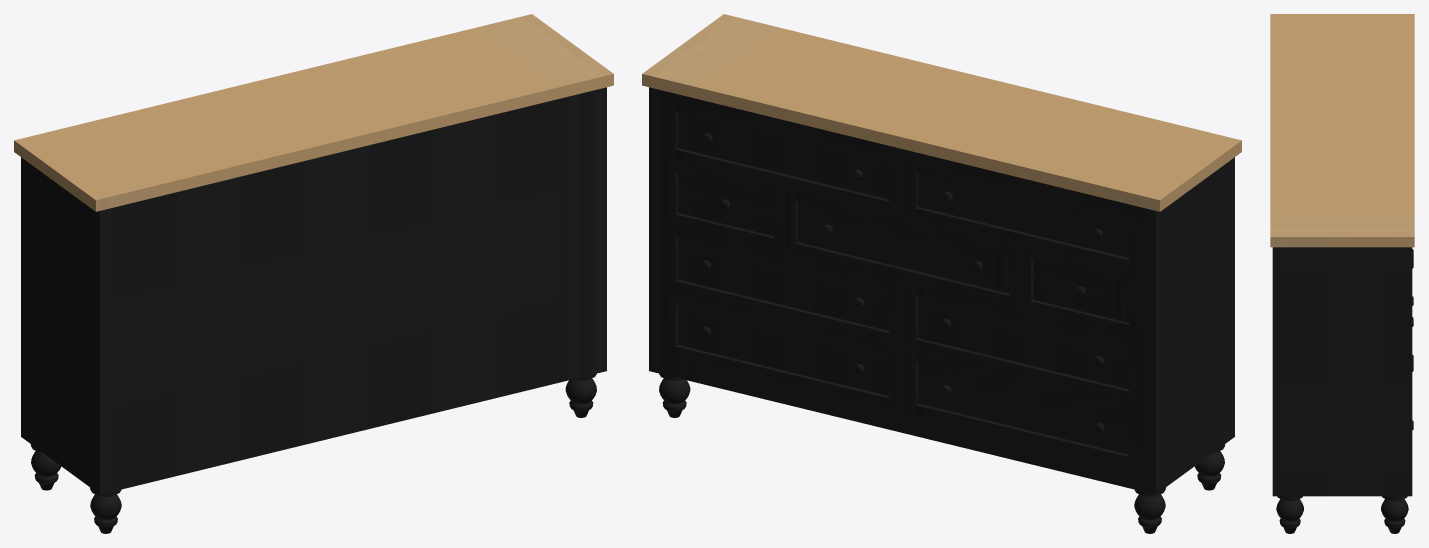
The model's file is Drawer31.glb.
3 renders of one model, left to right at view 1: azimuth 30°, elevation 25°; view 2: azimuth 150°, elevation 25°; view 3: azimuth 270°, elevation 25°, orthographic. The views are drawn at different scales.
Parts seen in each view (by area): view 1: Drawer31_Body; view 2: Drawer31_Body, Drawer31_6, Drawer31_7, Drawer31_9, Drawer31_8, Drawer31_4, Drawer31_1, Drawer31_2, Drawer31_5, Drawer31_3; view 3: Drawer31_Body.
Part boxes in pixels (x1,y1,x2,y2): Drawer31_Body: (14,14,613,533); Drawer31_Body: (642,14,1241,533); Drawer31_6: (667,225,897,343); Drawer31_7: (907,284,1137,402); Drawer31_9: (907,351,1137,467); Drawer31_8: (667,292,897,408); Drawer31_4: (787,190,1017,306); Drawer31_1: (667,102,897,212); Drawer31_2: (907,160,1137,270); Drawer31_5: (1022,248,1137,335); Drawer31_3: (667,161,781,248); Drawer31_Body: (1270,14,1414,533).
Size of the model in its own units: 4.17 by 2.65 by 1.14.
1 material, 1 textured.
